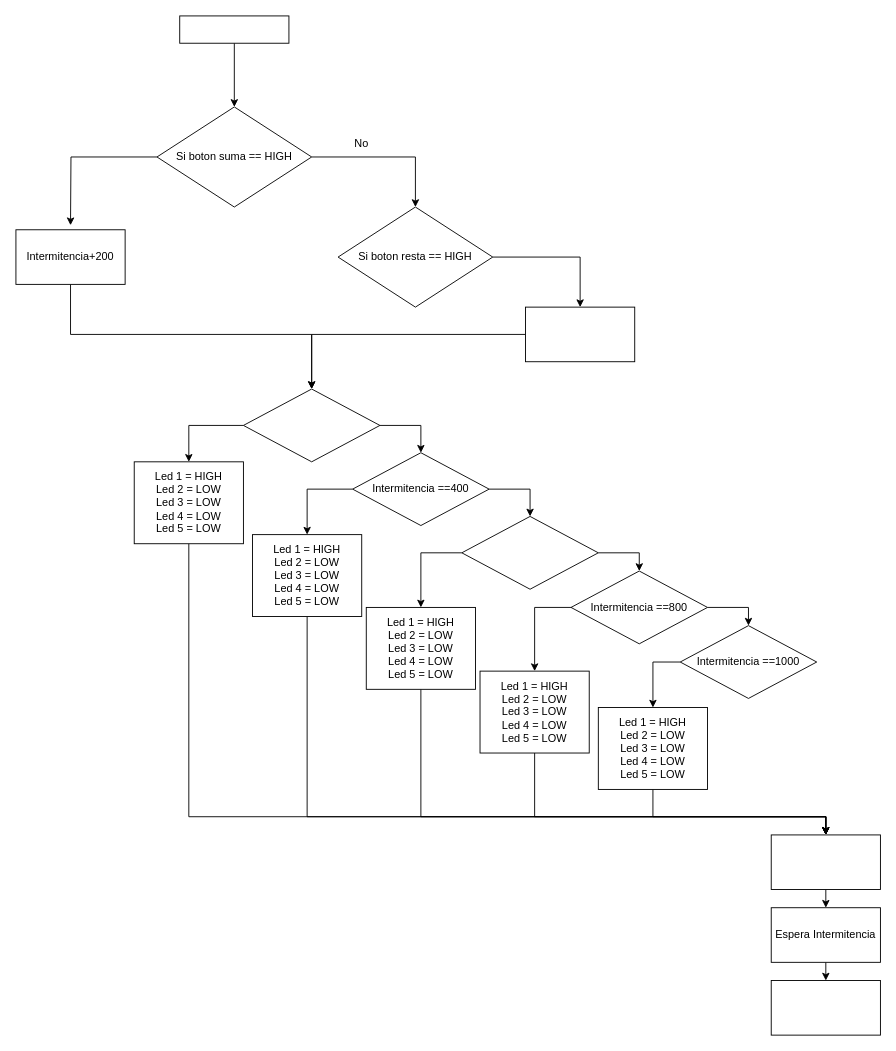
Image size: 896x1051. Some labels were removed from this diagram. Each missing label, with the box of its shape:
Inicio: (179, 15, 289, 43)
Intermitencia ==200: (243, 388, 380, 462)
Intermitencia ==600: (461, 516, 598, 589)
Intermitencia-200: (525, 306, 635, 362)
Led = HIGH: (770, 834, 880, 890)
Led = LOW: (770, 980, 880, 1035)
